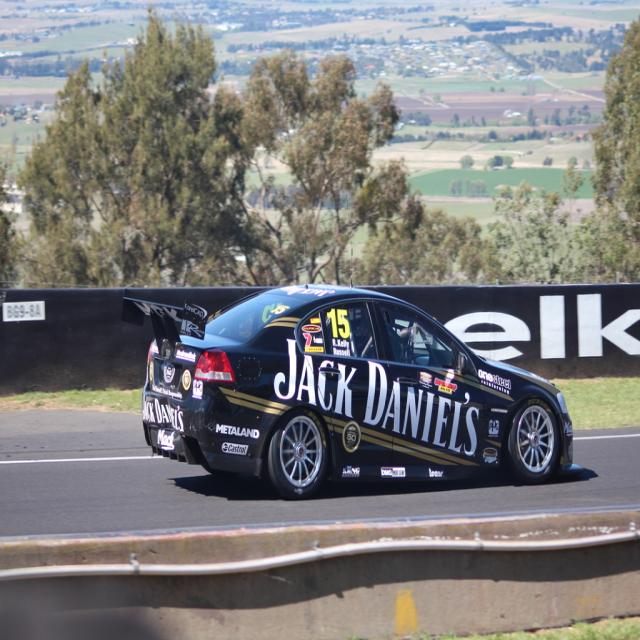car: (141, 284, 590, 496)
